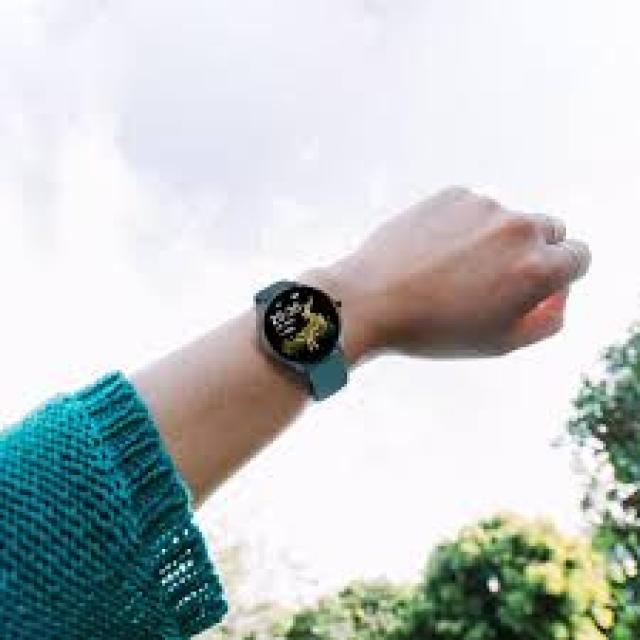objects: (253, 279, 350, 406)
